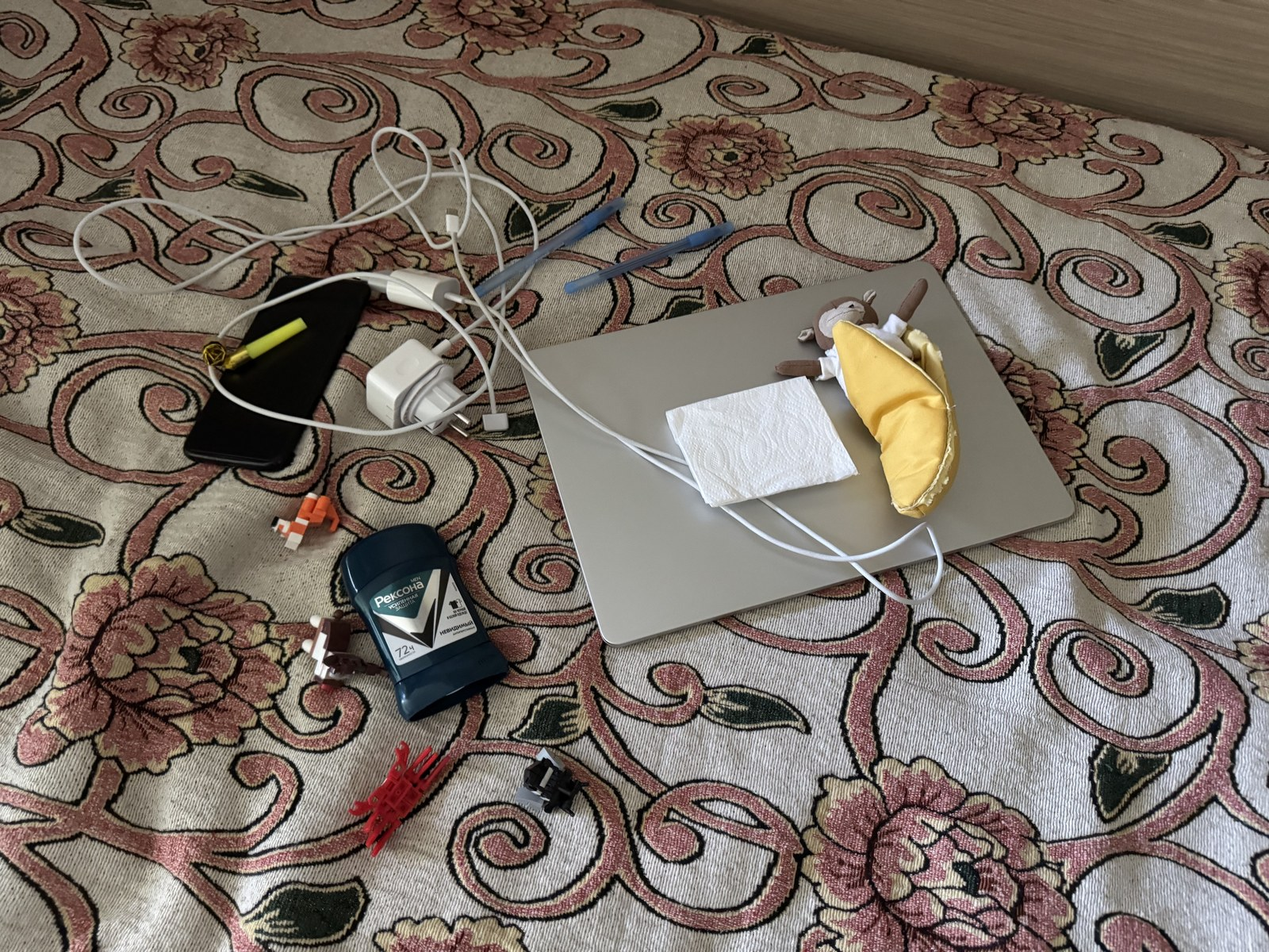cell phone: (182, 274, 370, 472)
laptop: (517, 259, 1076, 647)
